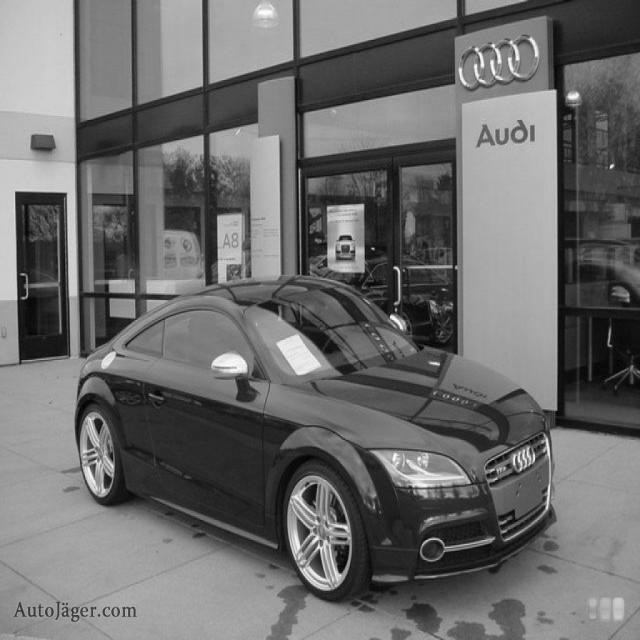Sedan: (73, 275, 556, 606)
